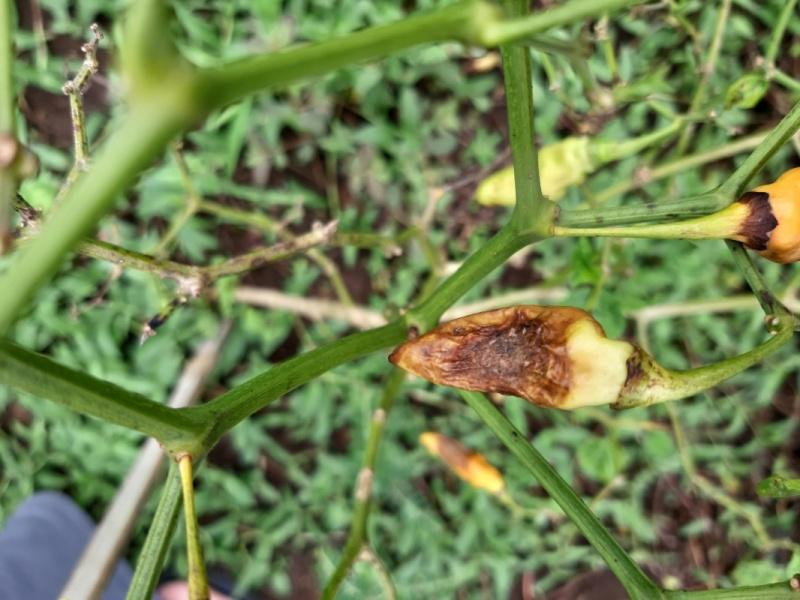antraknosa: (387, 313, 633, 409), (421, 433, 503, 492)
cabai_normal: (473, 135, 599, 208)
